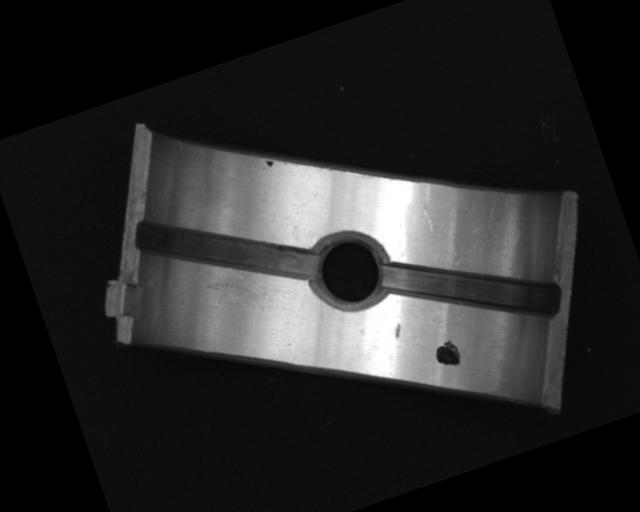blot: (431, 337, 464, 372), (263, 156, 276, 170)
bruise: (410, 181, 447, 235), (392, 322, 406, 340)
gap: (131, 173, 322, 326), (379, 217, 564, 363)
hole: (301, 222, 397, 321)
scratch: (184, 258, 281, 333)
